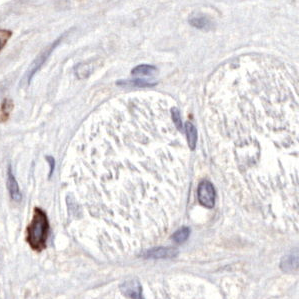Lymphocyte: (26, 206, 49, 252)
